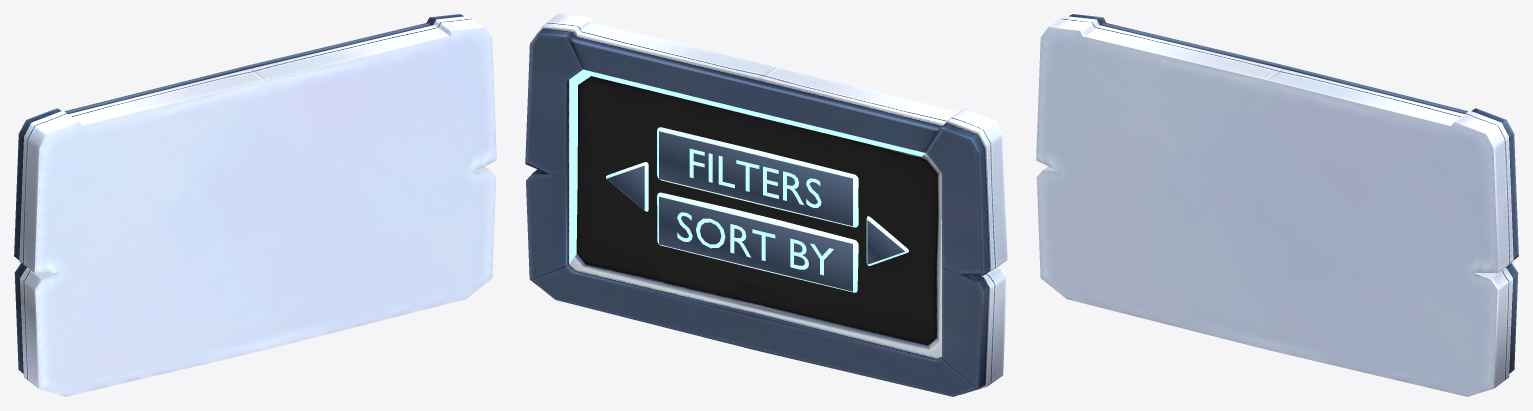
File: obj_filters.gltf
3 views of the same model, side by side, from view 1: azimuth 30°, elevation 25°; view 2: azimuth 150°, elevation 25°; view 3: azimuth 330°, elevation 25° (orthographic).
Visible parts, largest first — view 1: obj_filters; view 2: obj_filters; view 3: obj_filters.
Boxes of the visible parts, x1,y1,x2,y2 form: obj_filters: [14, 14, 496, 396]; obj_filters: [525, 14, 1007, 396]; obj_filters: [1036, 14, 1518, 396].
Size of what is drawn, in the model's own units: 3.11 by 1.76 by 0.2866.
Materials: 2 (1 with a texture image).
